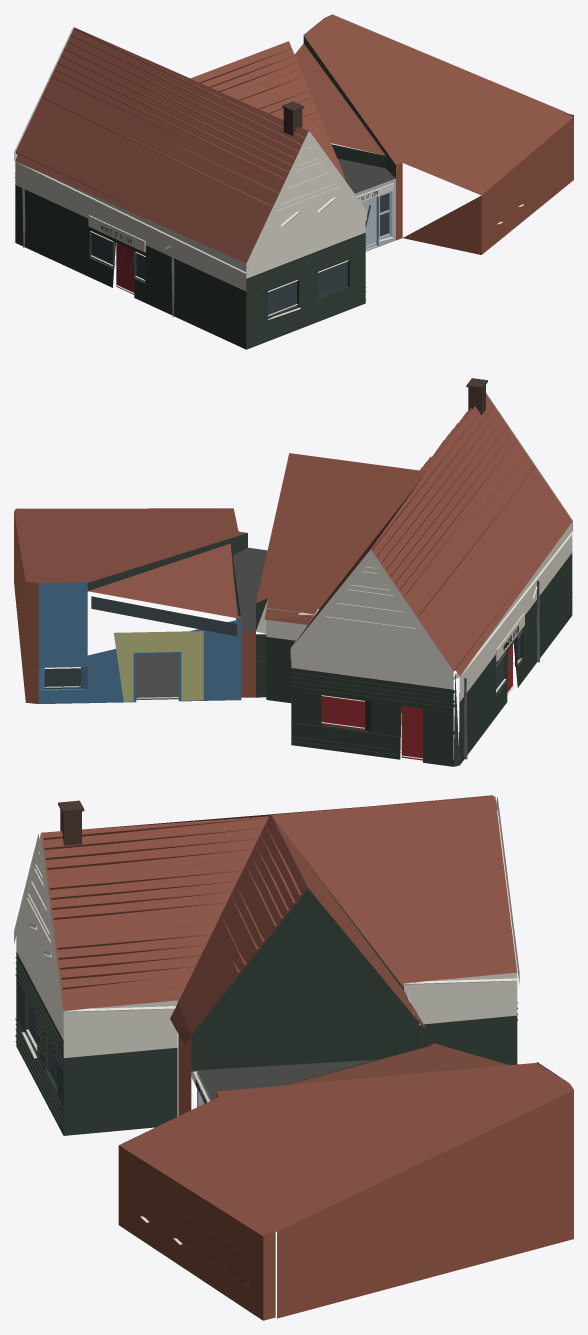
File: henrick-de-keijser-buurtgebouw.lod1.glb
3 views of the same model, one above another, from view 1: azimuth 30°, elevation 25°; view 2: azimuth 150°, elevation 25°; view 3: azimuth 270°, elevation 25° (orthographic). The views are drawn at different scales.
Visible parts, largest first — view 1: henrick-de-keijser-buurtgebouw; view 2: henrick-de-keijser-buurtgebouw; view 3: henrick-de-keijser-buurtgebouw.
Boxes of the visible parts, <box> form: henrick-de-keijser-buurtgebouw: <box>14,14,573,349</box>; henrick-de-keijser-buurtgebouw: <box>14,378,573,766</box>; henrick-de-keijser-buurtgebouw: <box>14,795,573,1320</box>.
Bounding box in the file's own units: 24.29 × 10.17 × 18.14.
